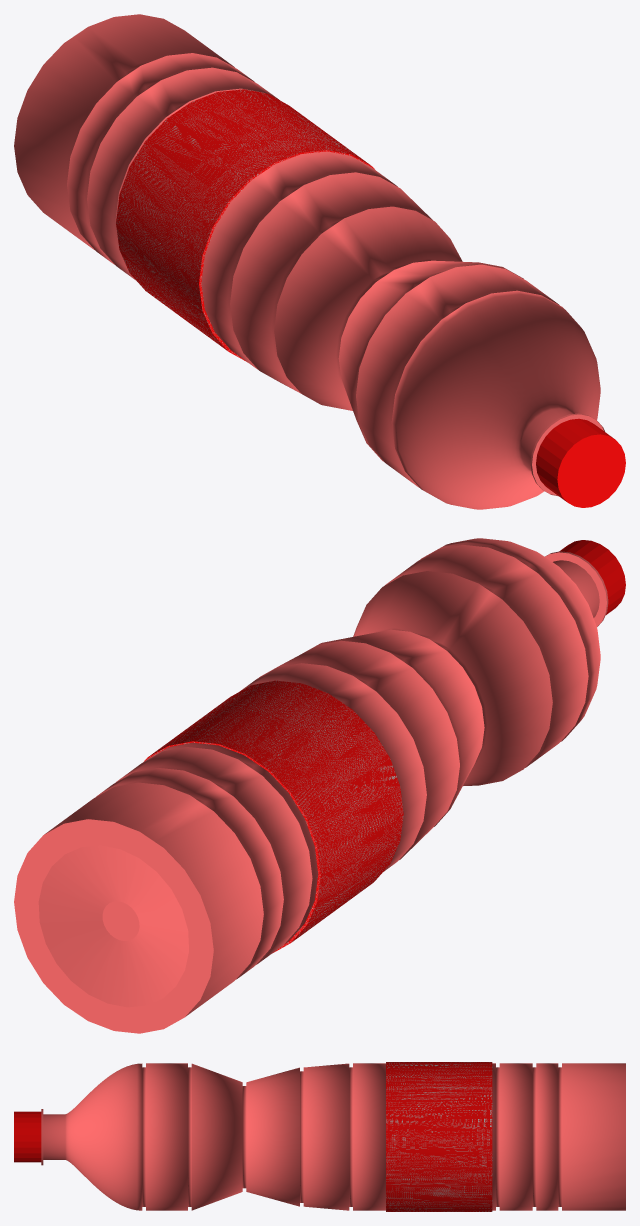
The model's file is model_align.obj.
The picture shows the model from 3 angles, top to bottom: view 1: azimuth 30°, elevation 25°; view 2: azimuth 150°, elevation 25°; view 3: azimuth 270°, elevation 25°; orthographic projection. The views are drawn at different scales.
Parts seen in each view (by area): view 1: mesh1_mesh1-geometry, mesh5_mesh5-geometry, mesh2_mesh2-geometry; view 2: mesh1_mesh1-geometry, mesh5_mesh5-geometry, mesh2_mesh2-geometry; view 3: mesh1_mesh1-geometry, mesh5_mesh5-geometry, mesh2_mesh2-geometry.
Part boxes in pixels (x1=…): mesh1_mesh1-geometry: x1=14, y1=14, x2=604, y2=509; mesh5_mesh5-geometry: x1=116, y1=89, x2=374, y2=362; mesh2_mesh2-geometry: x1=536, y1=418, x2=625, y2=507; mesh1_mesh1-geometry: x1=14, y1=538, x2=608, y2=1033; mesh5_mesh5-geometry: x1=144, y1=680, x2=403, y2=952; mesh2_mesh2-geometry: x1=559, y1=540, x2=625, y2=614; mesh1_mesh1-geometry: x1=41, y1=1063, x2=625, y2=1210; mesh5_mesh5-geometry: x1=386, y1=1062, x2=492, y2=1211; mesh2_mesh2-geometry: x1=14, y1=1111, x2=41, y2=1162.
Size of the model in its own units: 0.0608 by 0.0608 by 0.2475.
